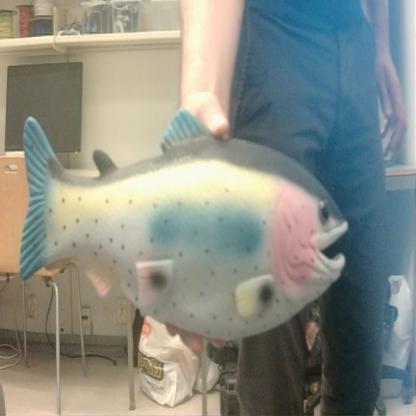rubberfish: (10, 98, 352, 347)
